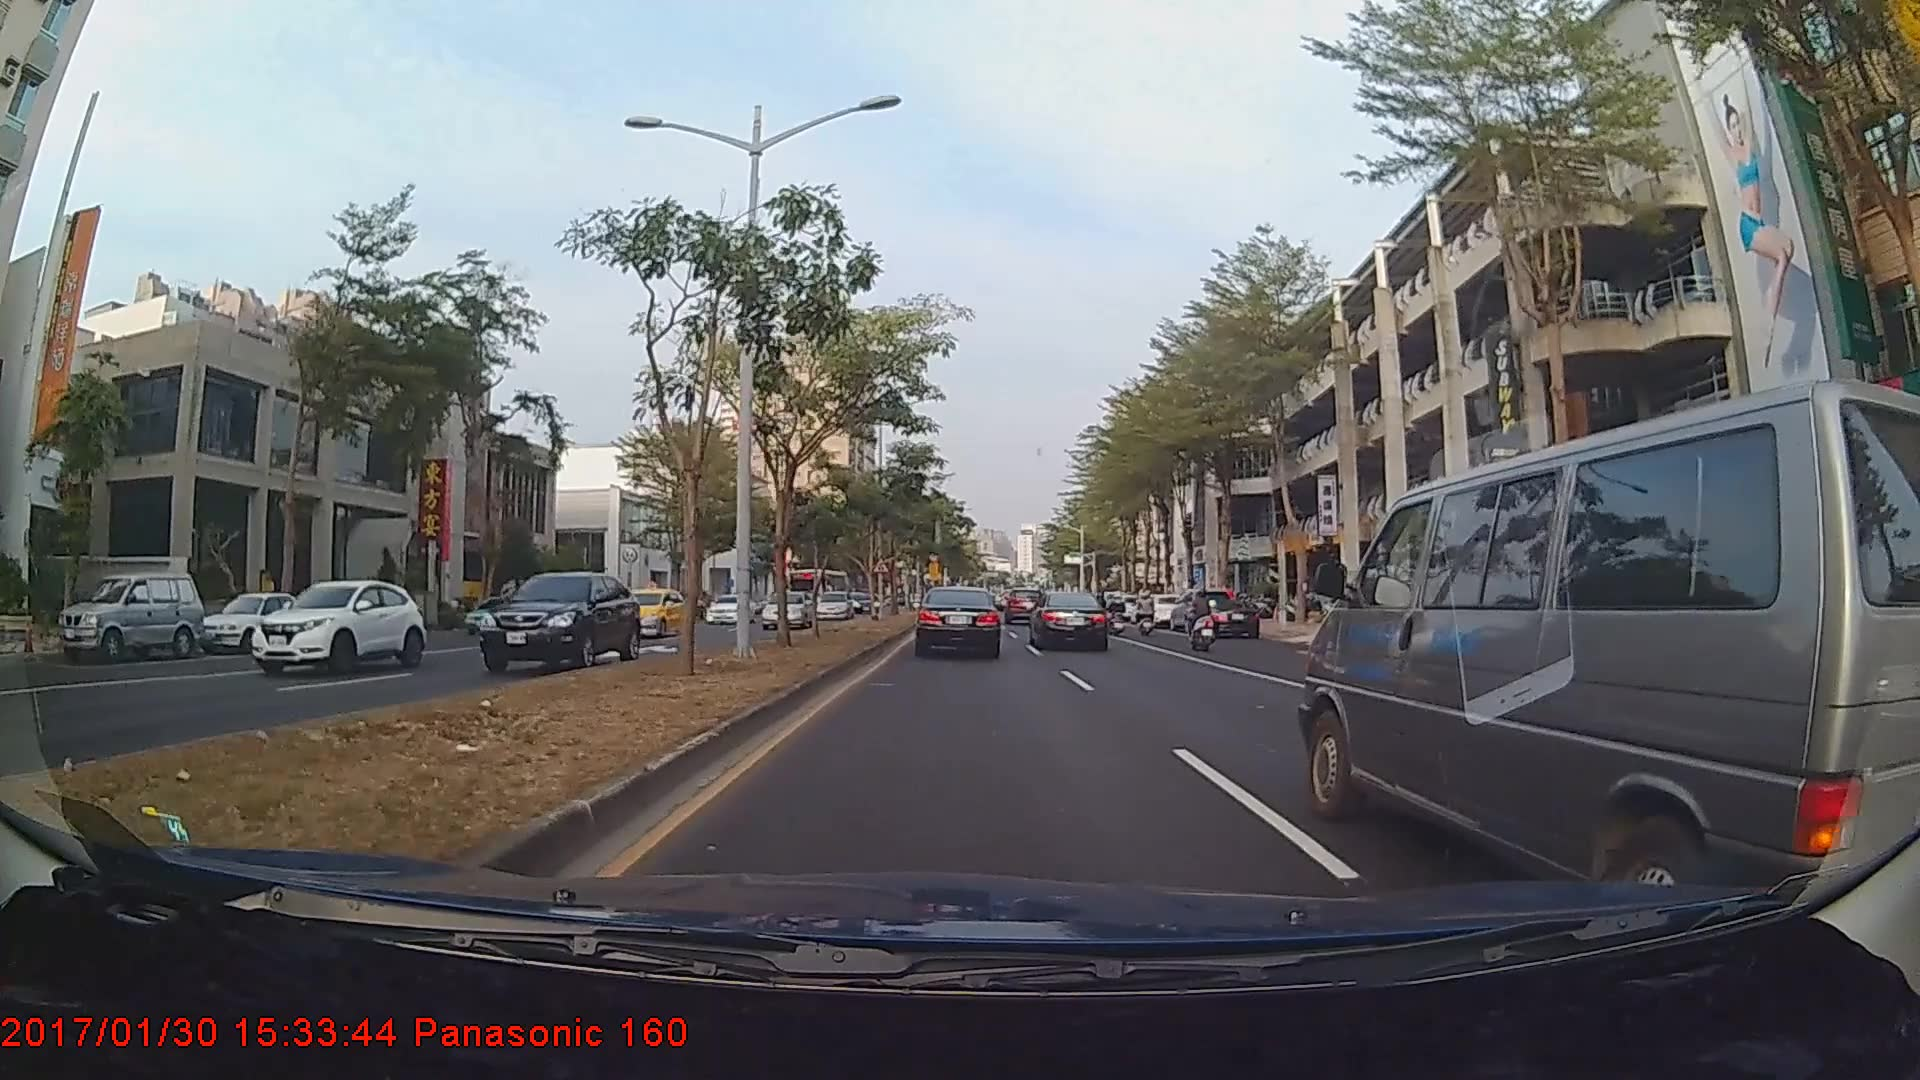rider: (1183, 586, 1221, 656), (1133, 588, 1160, 642)
vehicle: (1291, 388, 1901, 912), (247, 578, 431, 682), (475, 570, 639, 673), (54, 569, 204, 663), (916, 584, 1002, 657), (1031, 589, 1110, 651), (606, 587, 688, 638), (1186, 601, 1258, 643), (788, 569, 850, 616), (760, 590, 815, 632), (704, 592, 757, 625), (1005, 588, 1043, 623), (814, 589, 853, 620)
